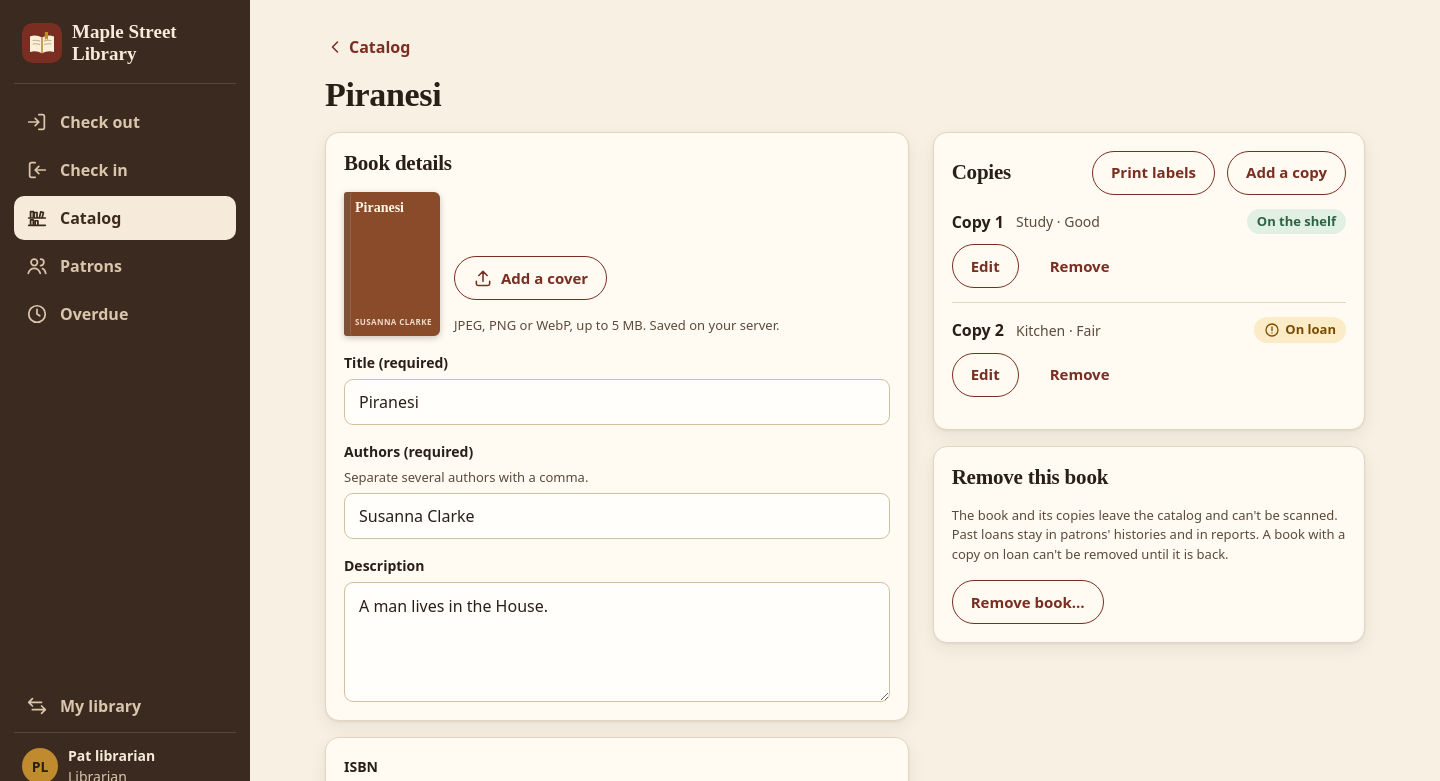
Test: CAT-5 Manage inventory: a book › Edit a book: its details are saved
Replace the text in the field labelled "Title (required)" with "Piranesi (2020)" at [617, 402], box 344,379 -> 890,425
(page scrolled)
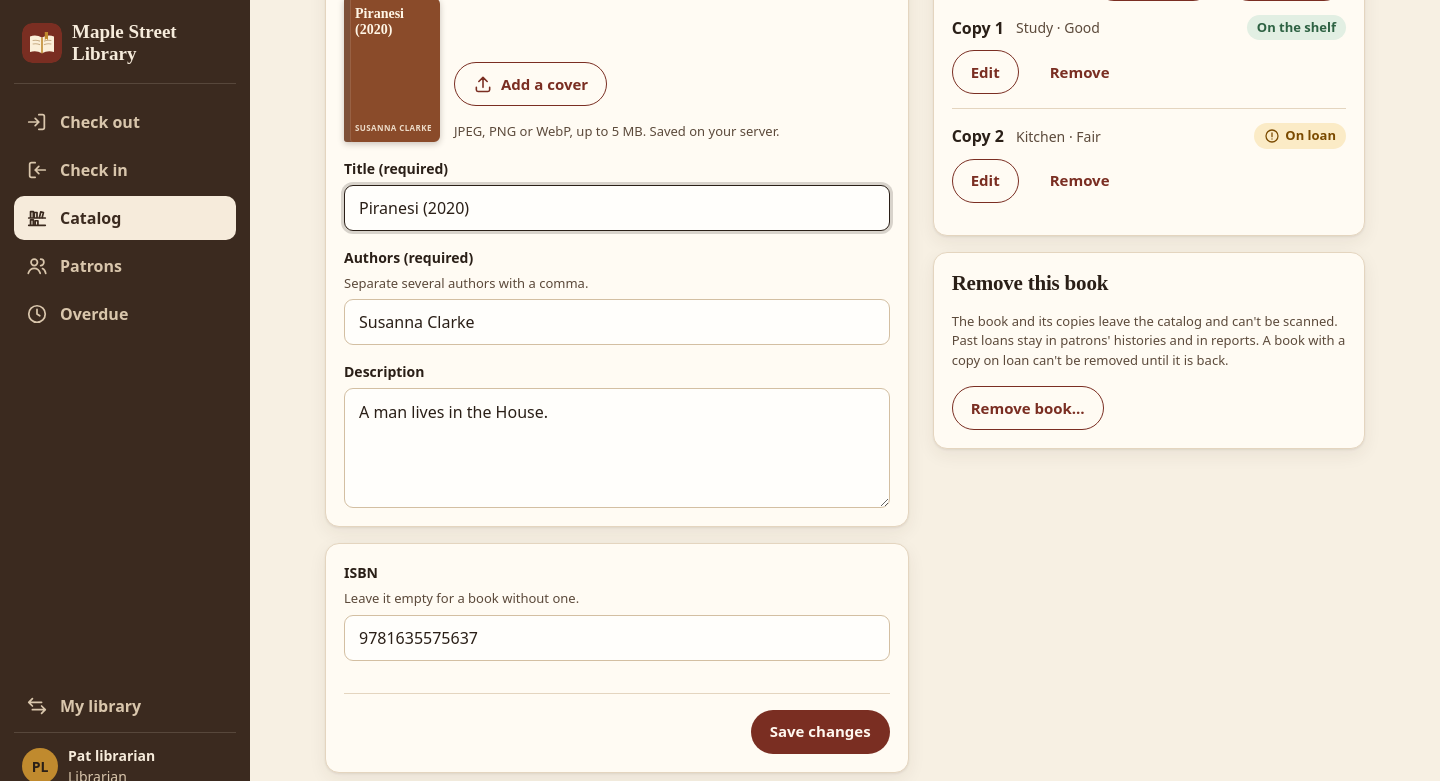
Click the button "Save changes" at [820, 732], box 751,710 -> 890,754
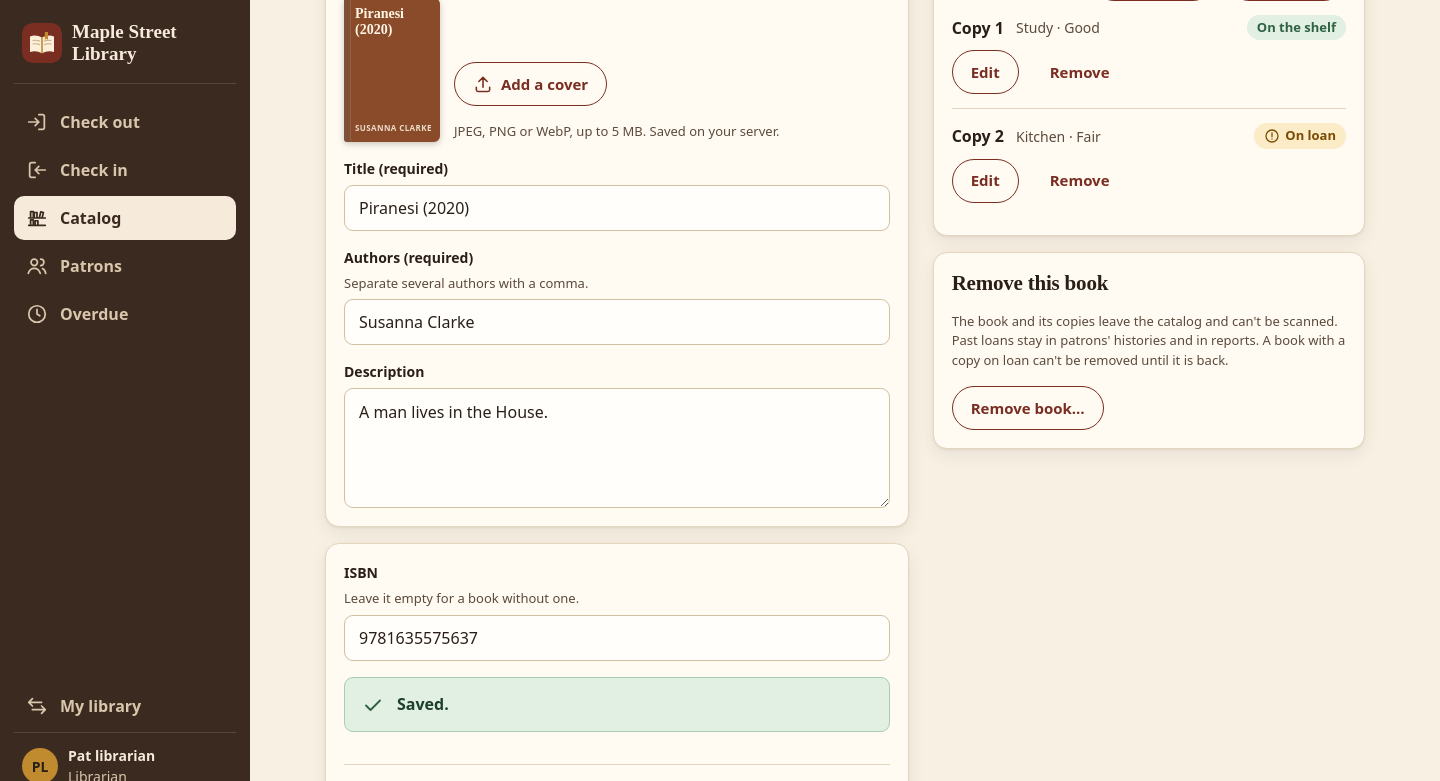
Expected: the text "Saved." is shown, 397,692 -> 449,716
